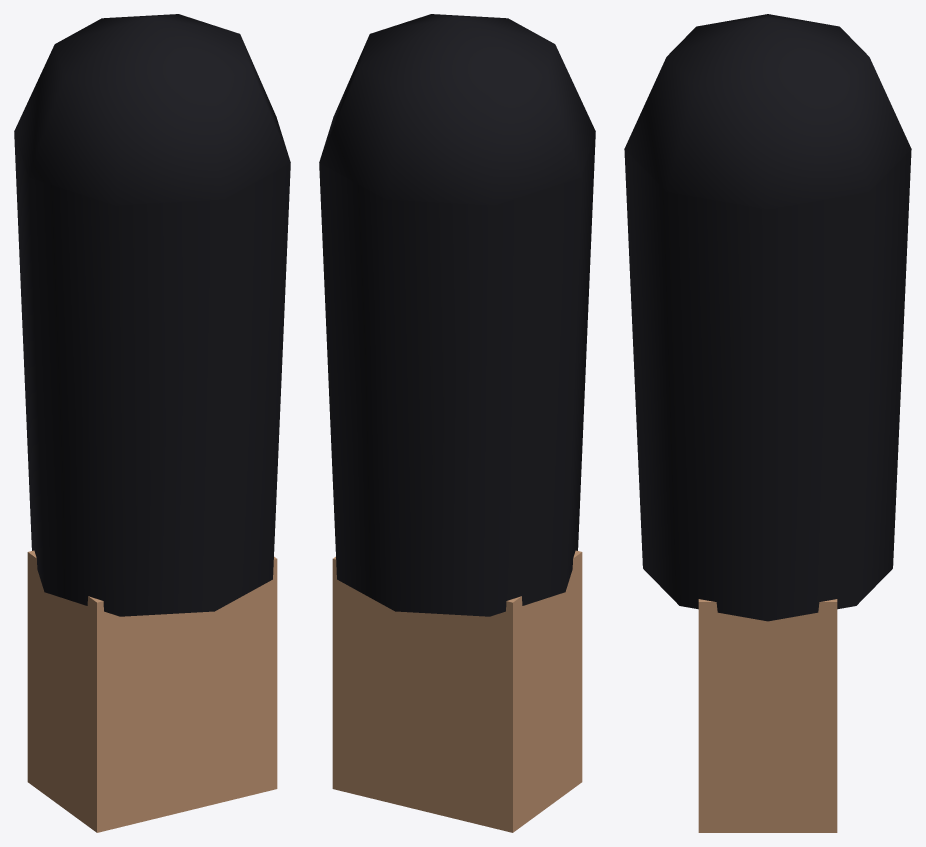
Rendered from PVeladora_Antebrazo.obj.
3 views of the same model, side by side, from view 1: azimuth 30°, elevation 25°; view 2: azimuth 150°, elevation 25°; view 3: azimuth 270°, elevation 25° (orthographic).
Parts seen in each view (by area): view 1: Antebrazo; view 2: Antebrazo; view 3: Antebrazo.
Boxes of the visible parts, x1,y1,x2,y2 form: Antebrazo: [14, 14, 290, 832]; Antebrazo: [319, 14, 595, 832]; Antebrazo: [624, 14, 911, 832].
Size of the model in its own units: 0.062 by 0.1835 by 0.062.
Materials: 1 (1 with a texture image).
